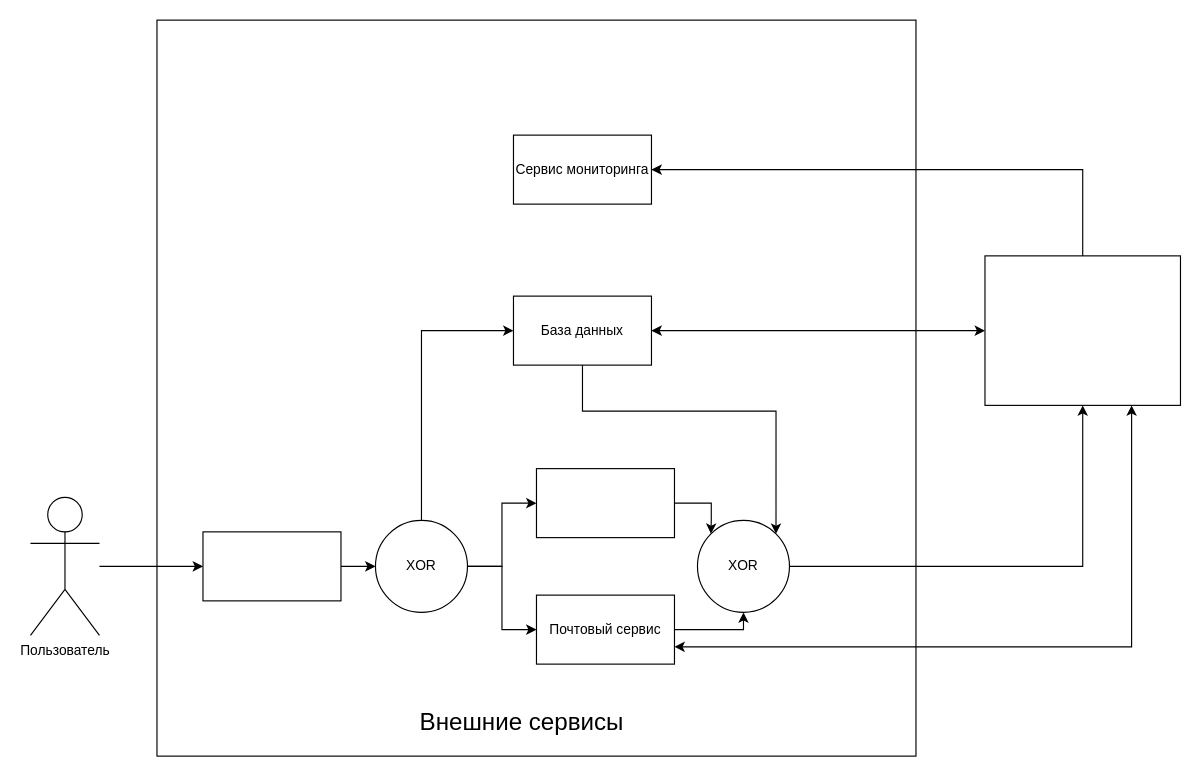
Some shapes in this 1201 by 776 pixel diagram are drawn without their labels. The shapes that lost their labels are listed below. From the top down, each one's centre as x and y in pixels, then its label:
At (x=1082, y=330): "Сервис обмена знаниями и опытом".
At (x=604, y=502): "Oauth-сервис".
At (x=271, y=566): "Поставщик авторизации".
